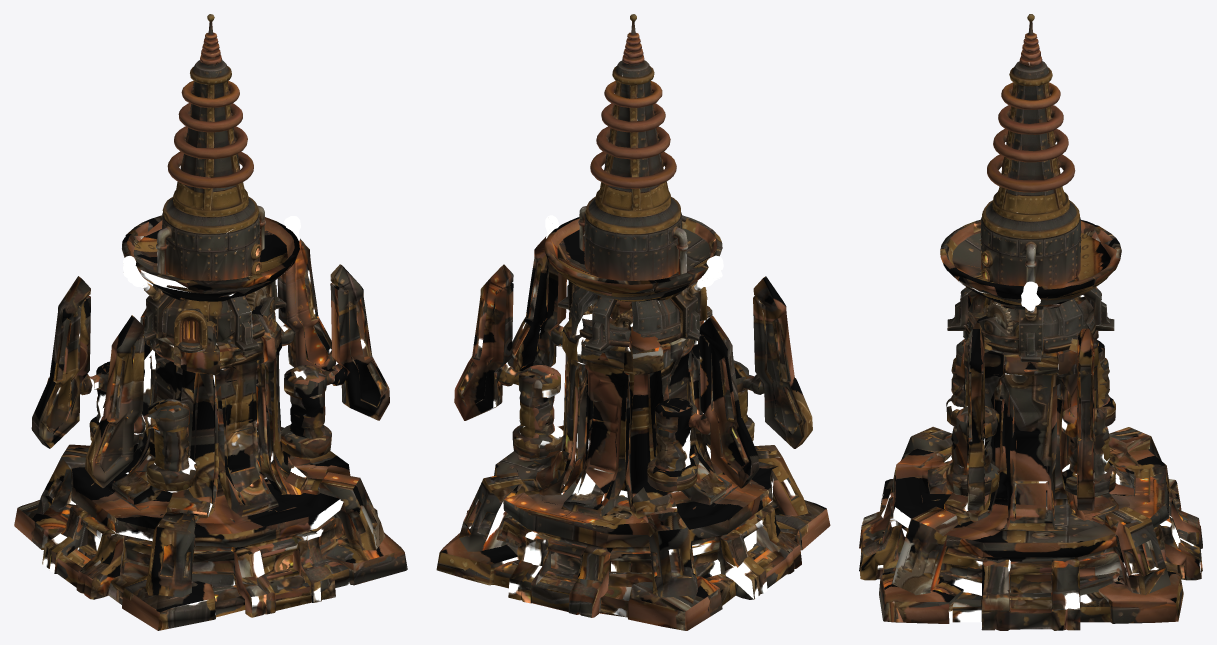
File: magnetronspire_kitbash_tesla_relay_v01_prepared.fbx
3 views of the same model, side by side, from view 1: azimuth 30°, elevation 25°; view 2: azimuth 150°, elevation 25°; view 3: azimuth 270°, elevation 25° (orthographic). The views are drawn at different scales.
Visible parts, largest first — view 1: LTW_MagnetronSpire_Kitbash; view 2: LTW_MagnetronSpire_Kitbash; view 3: LTW_MagnetronSpire_Kitbash.
Boxes of the visible parts, x1=… form: LTW_MagnetronSpire_Kitbash: x1=14, y1=14, x2=407, y2=630; LTW_MagnetronSpire_Kitbash: x1=436, y1=14, x2=830, y2=630; LTW_MagnetronSpire_Kitbash: x1=859, y1=14, x2=1202, y2=630.
Size of the model in its own units: 120 by 205 by 117.
